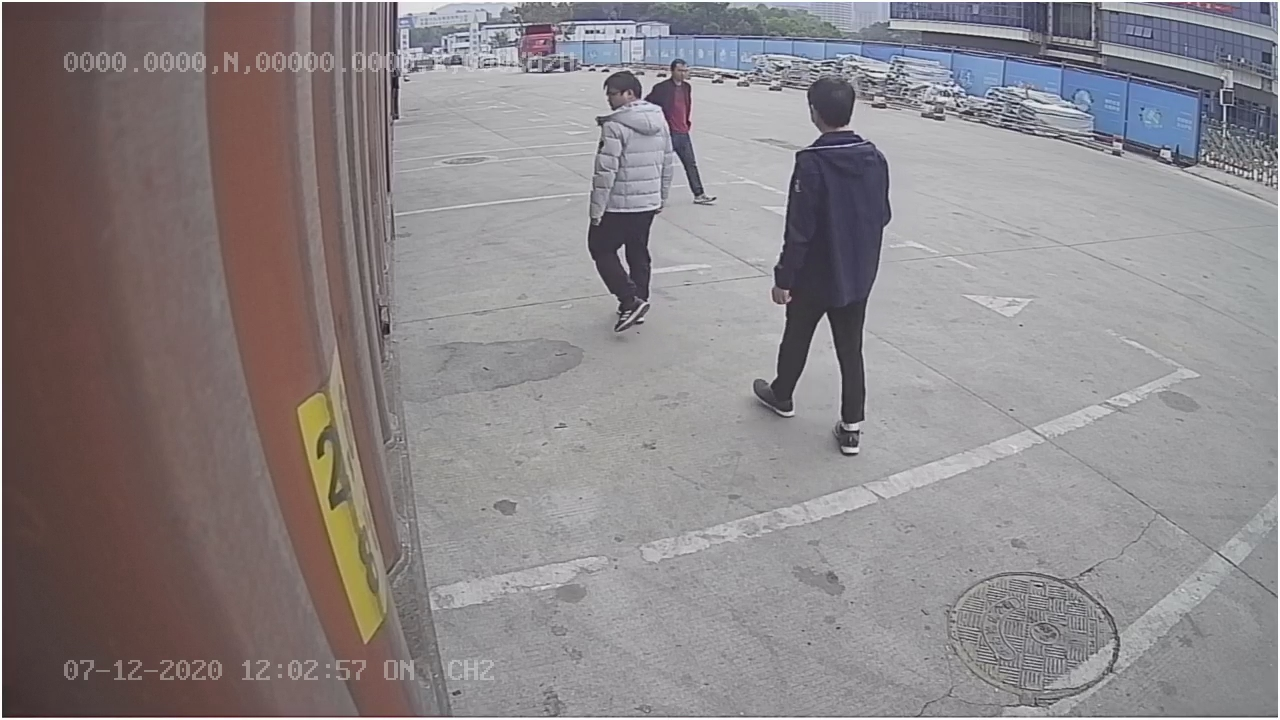person: (748, 77, 902, 453)
